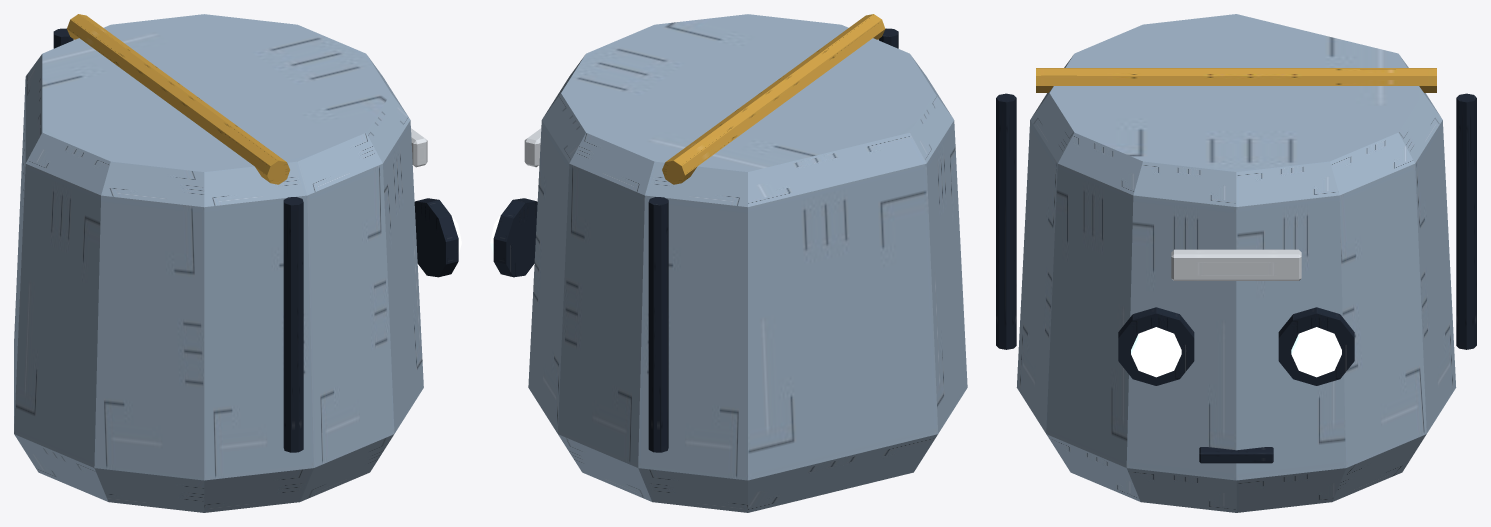
The model's file is bucket.glb.
3 views of the same model, side by side, from view 1: azimuth 30°, elevation 25°; view 2: azimuth 150°, elevation 25°; view 3: azimuth 270°, elevation 25° (orthographic).
Parts seen in each view (by area): view 1: head; view 2: head; view 3: head.
Part boxes in pixels (x1,y1,x2,y2): head: (14, 14, 461, 512); head: (490, 14, 967, 512); head: (996, 14, 1476, 512).
Bounding box in the file's own units: 0.3075 × 0.261 × 0.324.
Materials: 5 (5 with a texture image).
